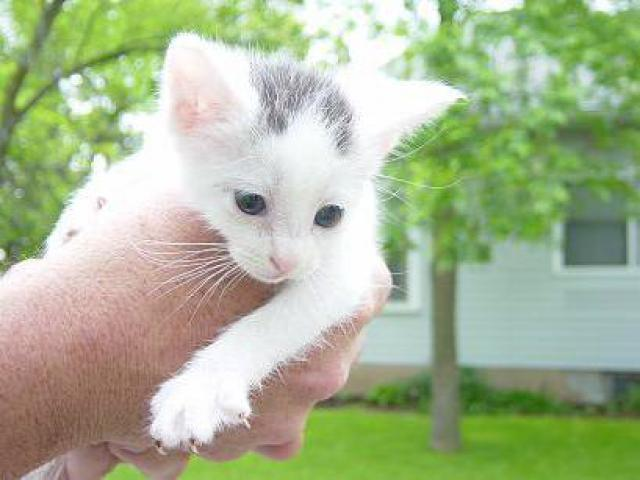cat: (3, 34, 466, 478)
